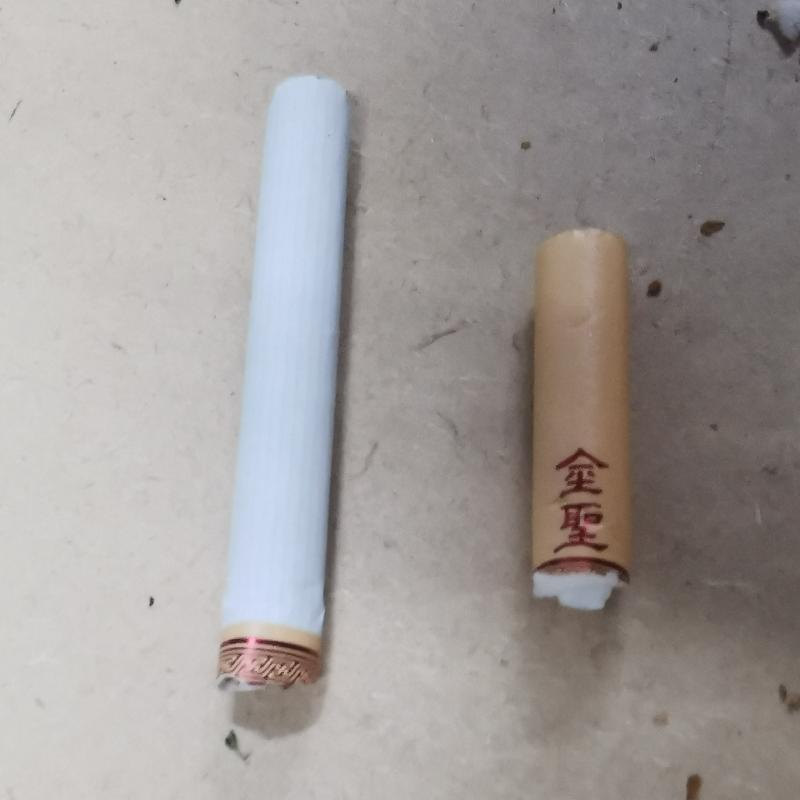cigarette: (221, 73, 352, 702), (518, 224, 649, 613)
